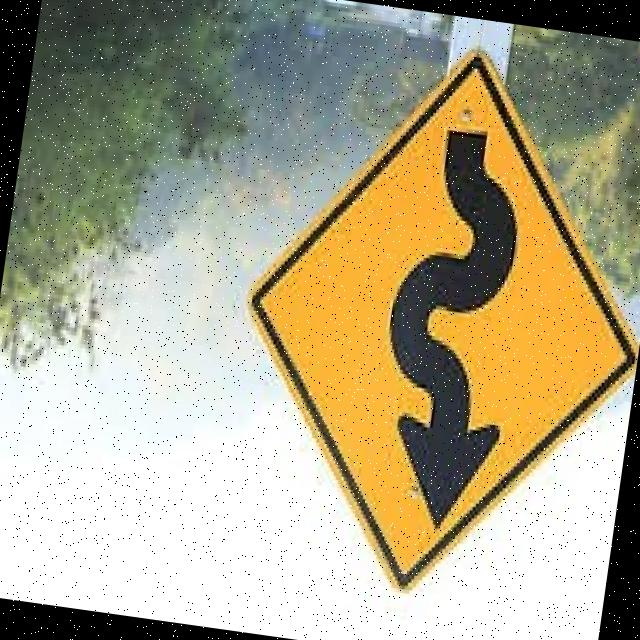left_sharp_curve: (201, 22, 640, 629)
